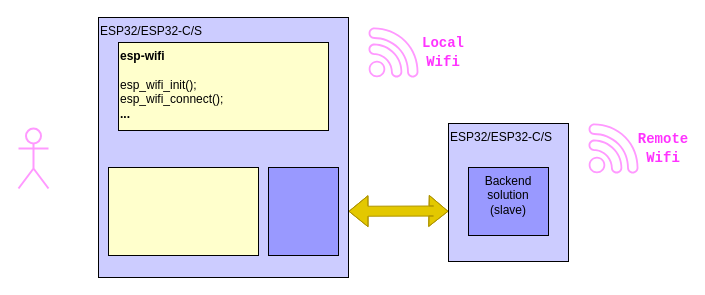
Image size: 705x295. Some labels were removed from this diagram. The centre of each missing label's shape, as x and y in pixels:
Backend solution (host): the point at 303,211
esp-wifi-remote esp_wifi_remote_init(); esp_wifi_remote_connect(); ...: the point at 183,211
